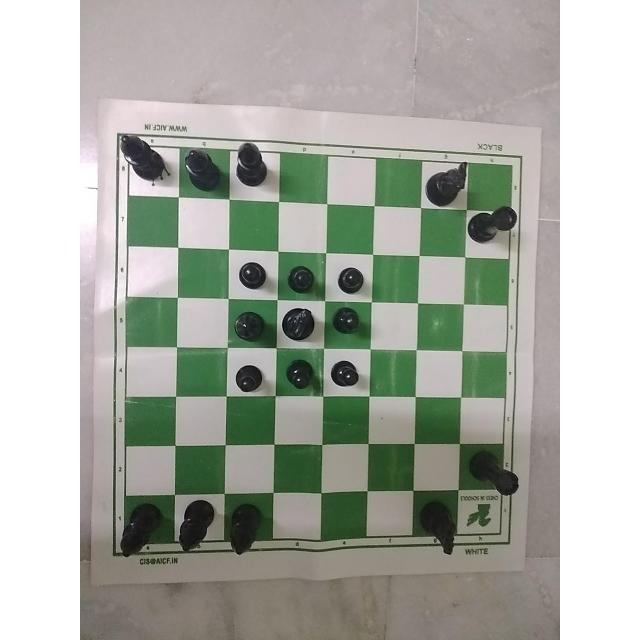black-bishop: (114, 500, 164, 568), (170, 492, 217, 564), (224, 497, 272, 558), (120, 133, 168, 189), (229, 137, 273, 191), (178, 143, 221, 197), (223, 302, 264, 346)
black-knight: (408, 493, 462, 561), (415, 155, 479, 210), (277, 300, 321, 344)
black-pawn: (331, 253, 378, 299), (225, 251, 275, 293), (332, 353, 372, 399), (278, 259, 325, 298), (233, 345, 269, 395), (283, 347, 316, 395), (330, 304, 371, 339)
black-rook: (464, 205, 526, 257), (465, 450, 526, 495)
